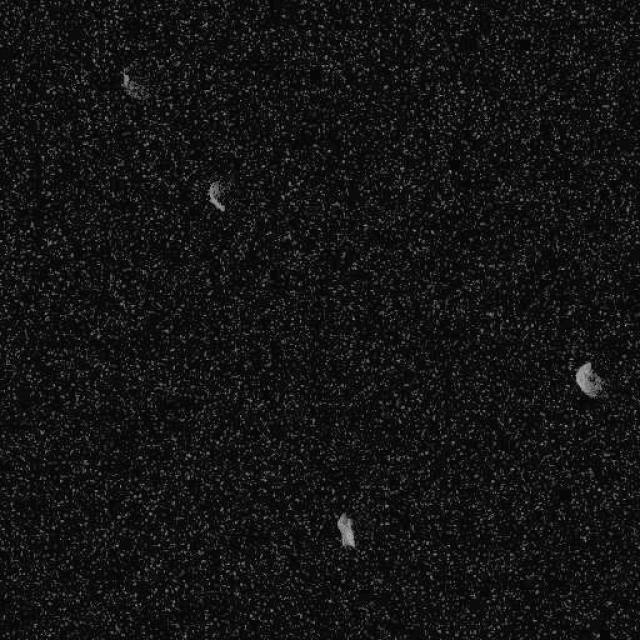D2: (574, 360, 602, 399), (119, 66, 146, 102), (335, 511, 356, 549), (205, 179, 225, 211)
